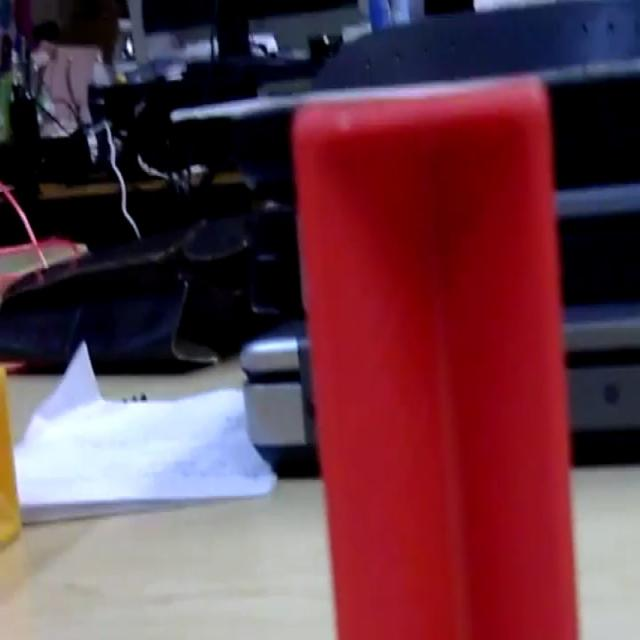red_block: (289, 73, 580, 636)
